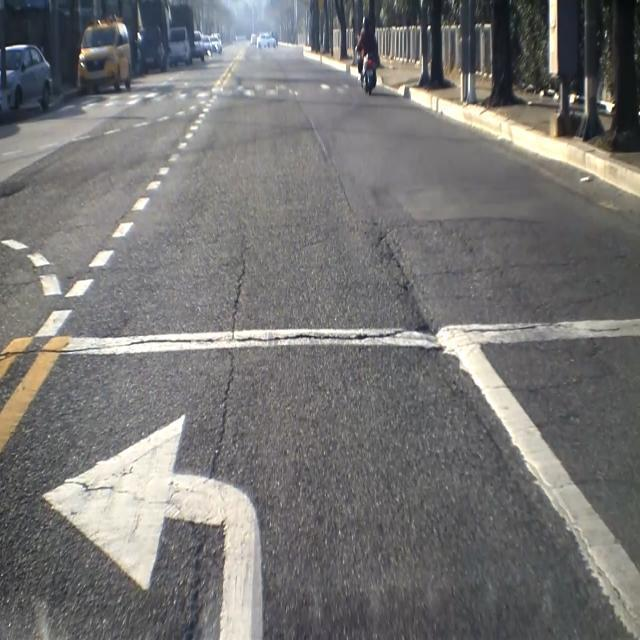pothole: (374, 220, 434, 333)
